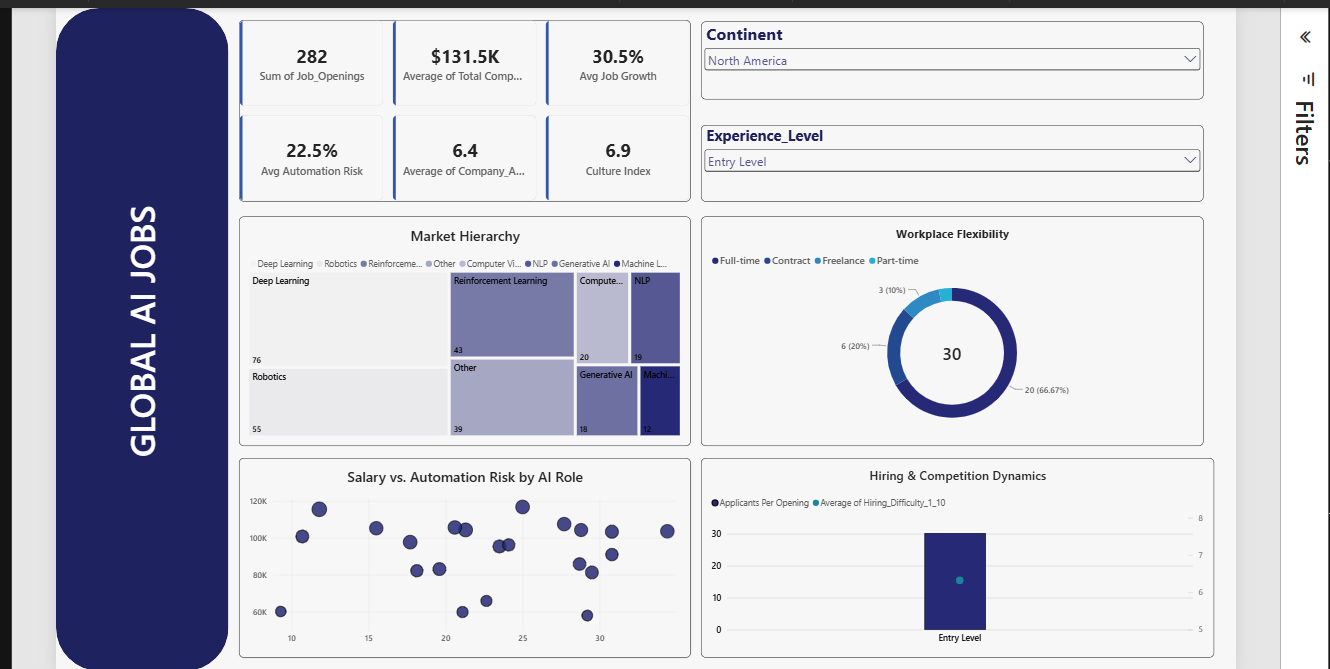

What the dashboard file says about the page in this screenshot:
{"tool":"powerbi","page":{"name":"Global AI Jobs 2026","canvas":[1920,1080],"ordinal":0},"visuals":[{"type":"scatterChart","title":"Salary vs. Automation Risk by AI Role","fields":{"Category":["global_ai_jobs_2026.Job_Title"],"Size":["global_ai_jobs_2026.Avg Total Compensation"],"X":["Avg(global_ai_jobs_2026.Automation_Risk_%)"],"Y":["Avg(global_ai_jobs_2026.Salary_USD)"]},"box":[297.7,731.9,734.4,324.5],"z":2000},{"type":"cardVisual","fields":{"Data":["Sum(global_ai_jobs_2026.Job_Openings)","Avg(global_ai_jobs_2026.Total Compensation Row)","global_ai_jobs_2026.Avg Job Growth","global_ai_jobs_2026.Avg Automation Risk","Avg(global_ai_jobs_2026.Company_AI_Maturity_1_10)","global_ai_jobs_2026.Culture Index"]},"box":[297.7,19.5,734.4,295.2],"z":3000},{"type":"treemap","title":"Market Hierarchy","fields":{"Group":["global_ai_jobs_2026.AI_Specialization"],"Values":["Sum(global_ai_jobs_2026.Job_Openings)"]},"box":[297.7,339.1,734.4,373.3],"z":4000},{"type":"lineStackedColumnComboChart","title":"Hiring & Competition Dynamics","fields":{"Category":["global_ai_jobs_2026.Experience_Level"],"Y":["global_ai_jobs_2026.Applicants Per Opening"],"Y2":["Avg(global_ai_jobs_2026.Hiring_Difficulty_1_10)"]},"box":[1049.1,731.9,834.4,324.5],"z":5000},{"type":"donutChart","title":"Workplace Flexibility","fields":{"Category":["global_ai_jobs_2026.Job_Type"],"Y":["CountNonNull(global_ai_jobs_2026.Job_ID)"]},"box":[1049.1,339.1,817.3,373.3],"z":6000},{"type":"slicer","fields":{"Values":["global_ai_jobs_2026.Continent"]},"box":[1049.1,22,817.3,126.9],"z":7000},{"type":"actionButton","title":"GLOBAL AI JOBS","box":[0,0,280.6,1078.4],"z":8001},{"type":"slicer","fields":{"Values":["global_ai_jobs_2026.Experience_Level"]},"box":[1049.1,190.3,817.3,124.4],"z":8002}]}

Visuals, with their boxes in screenshot pixels (x1, y1, x2, y2):
"Salary vs. Automation Risk by AI Role" scatterChart: 234 440 682 638
cardVisual - Sum(global_ai_jobs_2026.Job_Openings) x Avg(global_ai_jobs_2026.Total Compensation Row): 234 5 682 185
"Market Hierarchy" treemap: 234 200 682 428
"Hiring & Competition Dynamics" lineStackedColumnComboChart: 692 440 1202 638
"Workplace Flexibility" donutChart: 692 200 1191 428
slicer - global_ai_jobs_2026.Continent: 692 6 1191 84
"GLOBAL AI JOBS" actionButton: 52 0 223 651
slicer - global_ai_jobs_2026.Experience_Level: 692 109 1191 185
